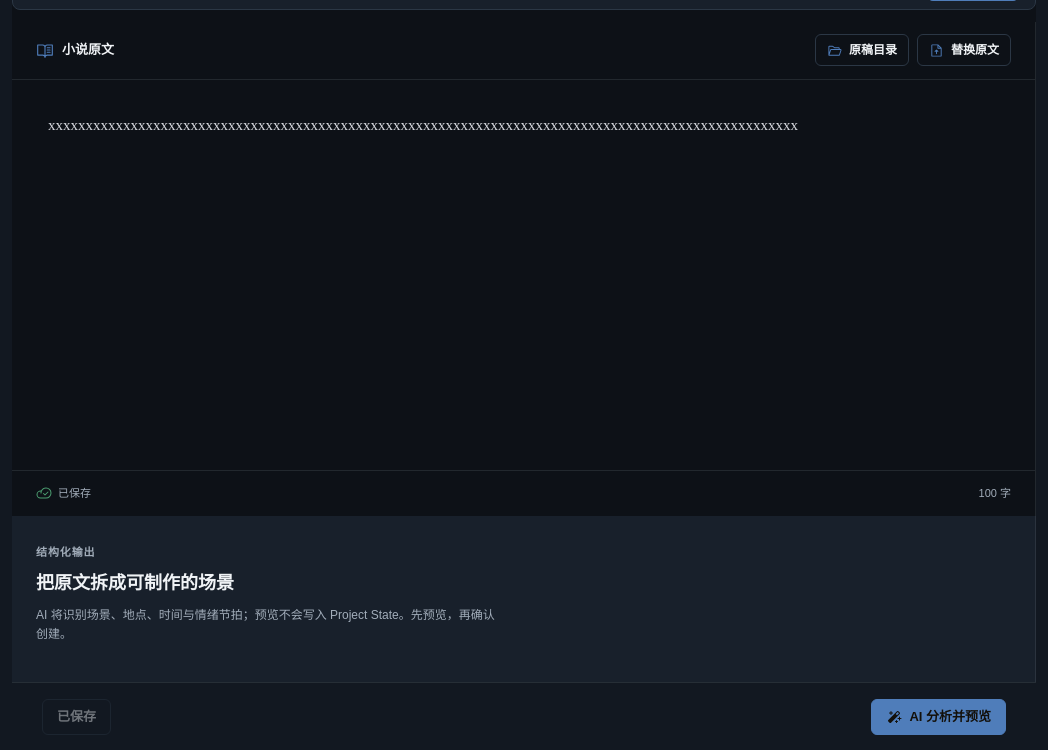
Test: EpisodePanel (P2-E1-T02) › 应用角色决策按快照提交动作，逐项结果回显
(page scrolled)
Click the button "AI 分析并预览" at point(939, 717), box [871, 699, 1006, 735]
(page scrolled)
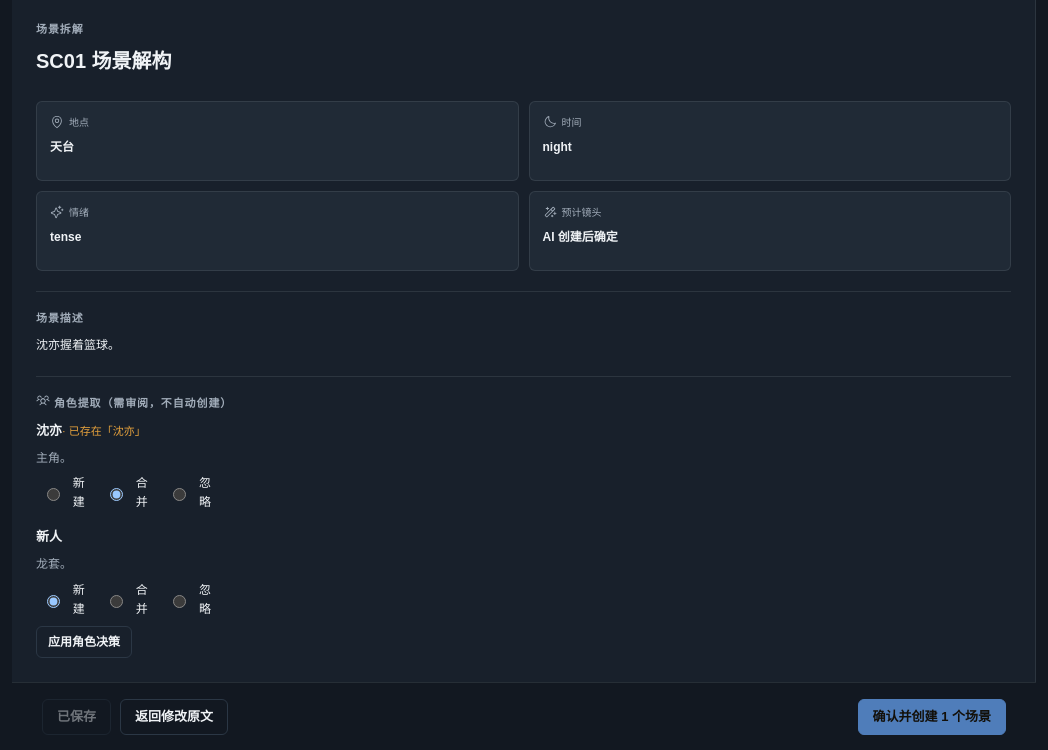
Click the button "应用角色决策" at point(84, 642), box [36, 626, 132, 658]
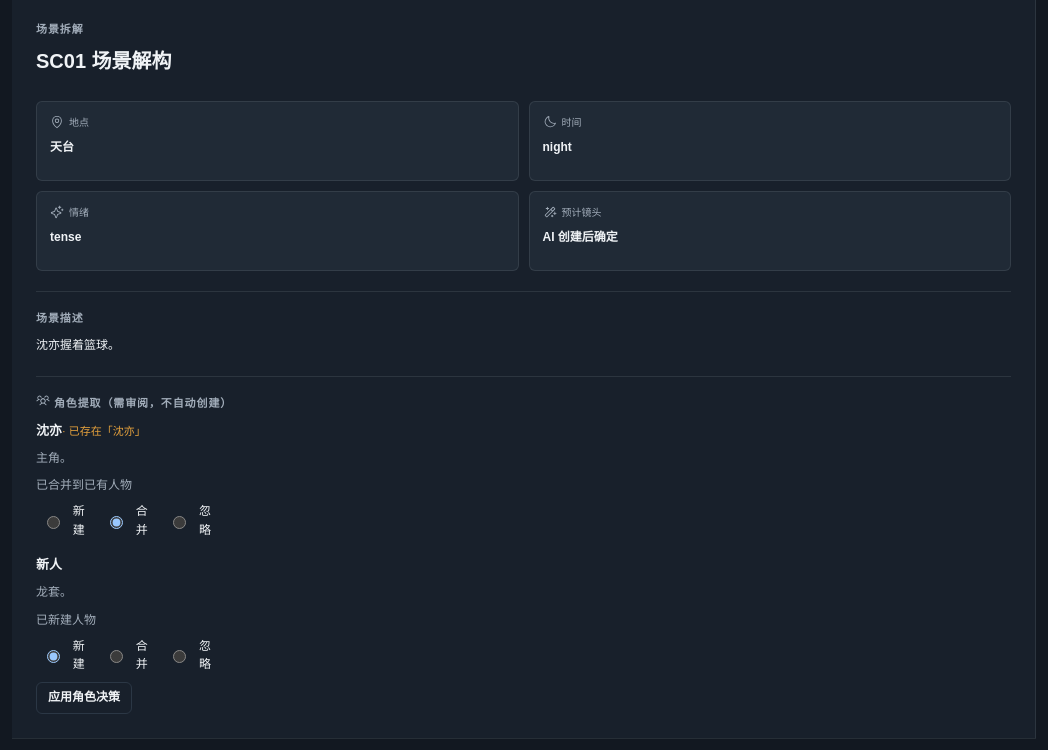
Check: the text "已合并到已有人物" is shown, box [36, 478, 132, 492]
Check: the text "已新建人物" is shown, box [36, 613, 96, 627]
